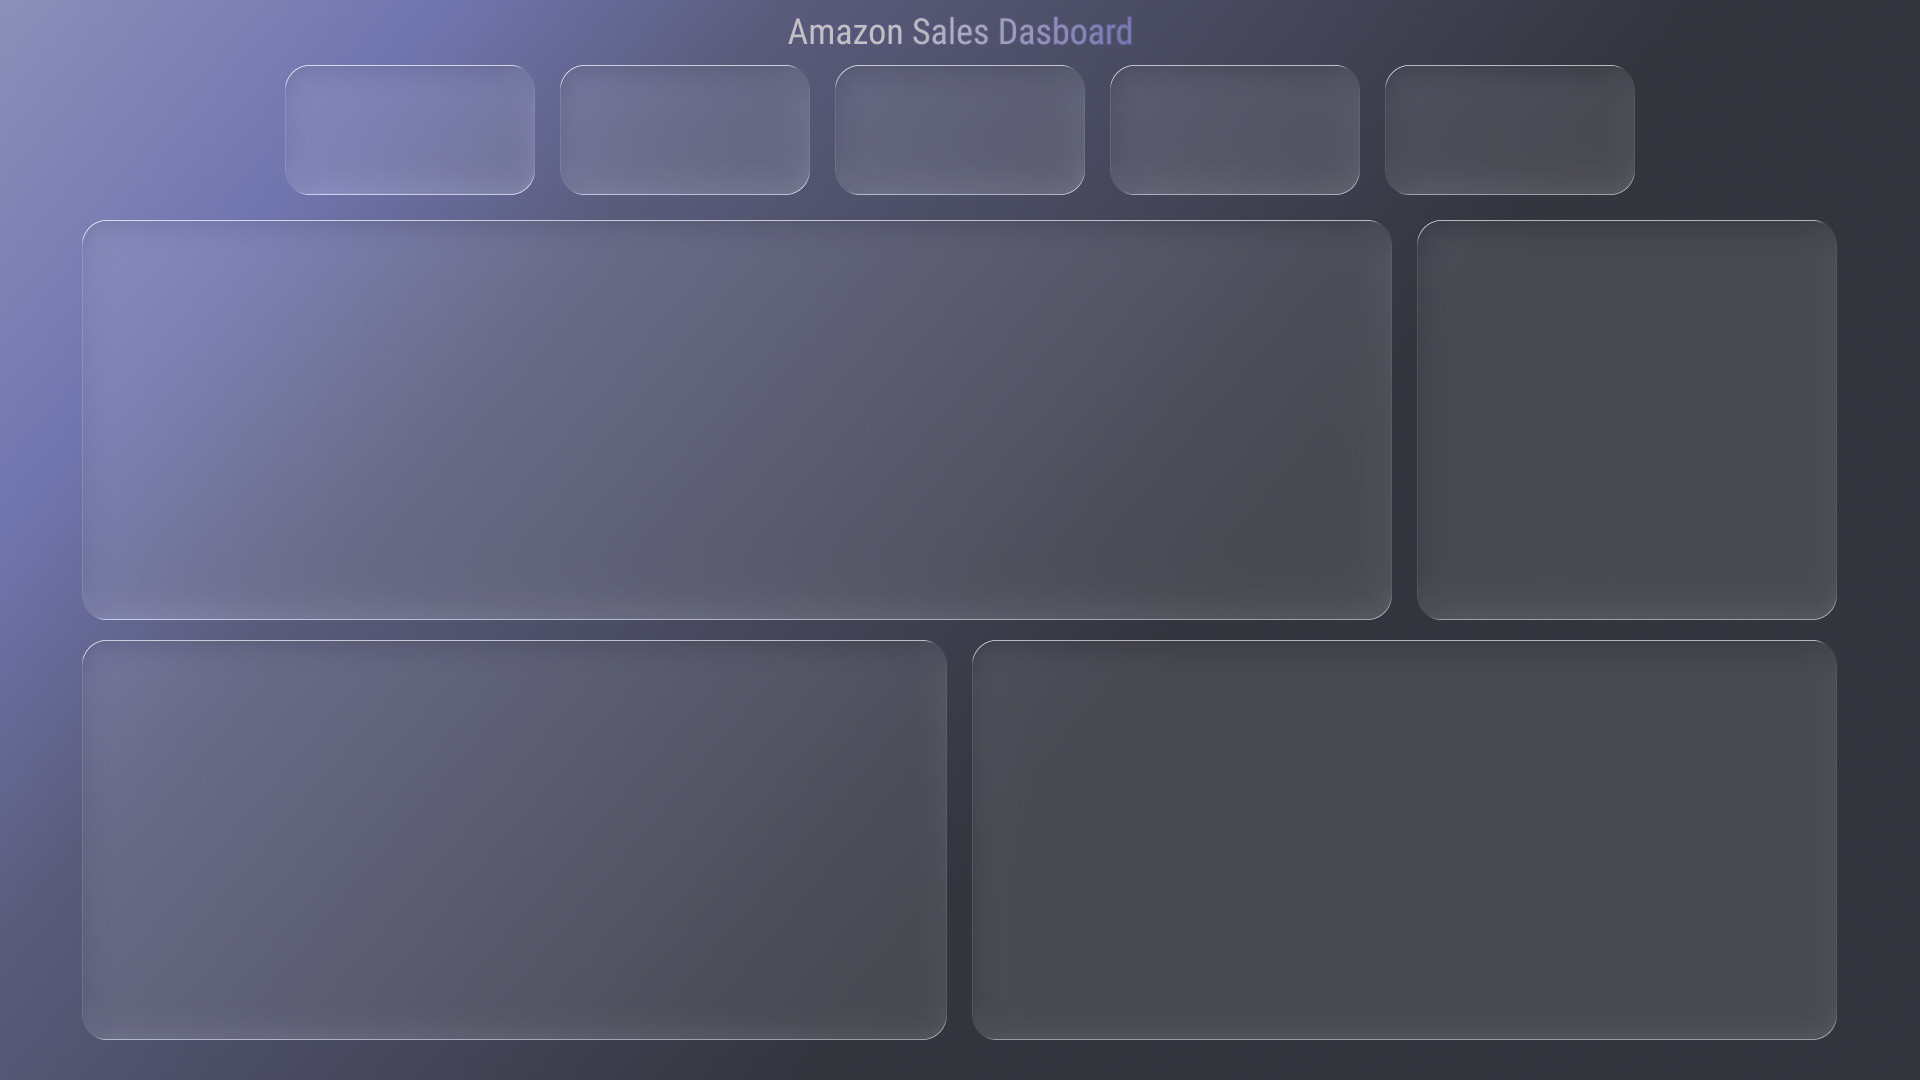

Layout of this report page (visuals, bound fields, positions):
{"tool":"powerbi","page":{"name":"Page 1","canvas":[1280,720],"ordinal":0},"visuals":[{"type":"card","fields":{"Values":["amazon_sales.Total Revenue"]},"box":[191.2,42.5,165,85],"z":0},{"type":"card","fields":{"Values":["amazon_sales.Total Orders"]},"box":[374.4,42.5,165,85],"z":1000},{"type":"card","fields":{"Values":["amazon_sales.Total Quantity"]},"box":[557.5,42.5,165,85],"z":2000},{"type":"card","fields":{"Values":["amazon_sales.Completion Rate"]},"box":[923.8,42.5,165,85],"z":3000},{"type":"card","fields":{"Values":["amazon_sales.Average Order Value"]},"box":[741.2,42.5,165,85],"z":4000},{"type":"barChart","fields":{"Category":["amazon_sales.Category"],"Y":["amazon_sales.Total Revenue"]},"box":[651.2,426.2,571.2,262.5],"z":5000},{"type":"lineChart","fields":{"Category":["amazon_sales.Date.Variation.Date Hierarchy.Month","amazon_sales.Date.Variation.Date Hierarchy.Day"],"Y":["amazon_sales.Total Revenue"]},"box":[355.7,145.2,568.6,263.4],"z":6000},{"type":"columnChart","fields":{"Category":["amazon_sales.Product"],"Y":["amazon_sales.Total Revenue"]},"box":[57.5,426.2,570,262.5],"z":7000},{"type":"donutChart","fields":{"Category":["amazon_sales.Status"],"Y":["amazon_sales.Total Orders"]},"box":[946.2,145,276.2,263.8],"z":8000},{"type":"advancedSlicerVisual","title":"Month","fields":{"Values":["amazon_sales.Month Name"]},"box":[57.8,145.2,274.5,120.6],"z":9000},{"type":"advancedSlicerVisual","title":"Category","fields":{"Values":["amazon_sales.Category"]},"box":[57.8,288,274.5,120.6],"z":10000}]}

Visuals, with their boxes in screenshot pixels (x1, y1, x2, y2), scaled from the page's 1280x720 canvas onto the 1920x1080 screenshot:
card - amazon_sales.Total Revenue: rect(287, 64, 534, 191)
card - amazon_sales.Total Orders: rect(562, 64, 809, 191)
card - amazon_sales.Total Quantity: rect(836, 64, 1084, 191)
card - amazon_sales.Completion Rate: rect(1386, 64, 1633, 191)
card - amazon_sales.Average Order Value: rect(1112, 64, 1359, 191)
barChart - amazon_sales.Category x amazon_sales.Total Revenue: rect(977, 639, 1834, 1033)
lineChart - amazon_sales.Date.Variation.Date Hierarchy.Month x amazon_sales.Date.Variation.Date Hierarchy.Day: rect(534, 218, 1386, 613)
columnChart - amazon_sales.Product x amazon_sales.Total Revenue: rect(86, 639, 941, 1033)
donutChart - amazon_sales.Status x amazon_sales.Total Orders: rect(1419, 218, 1834, 613)
"Month" advancedSlicerVisual: rect(87, 218, 498, 399)
"Category" advancedSlicerVisual: rect(87, 432, 498, 613)
